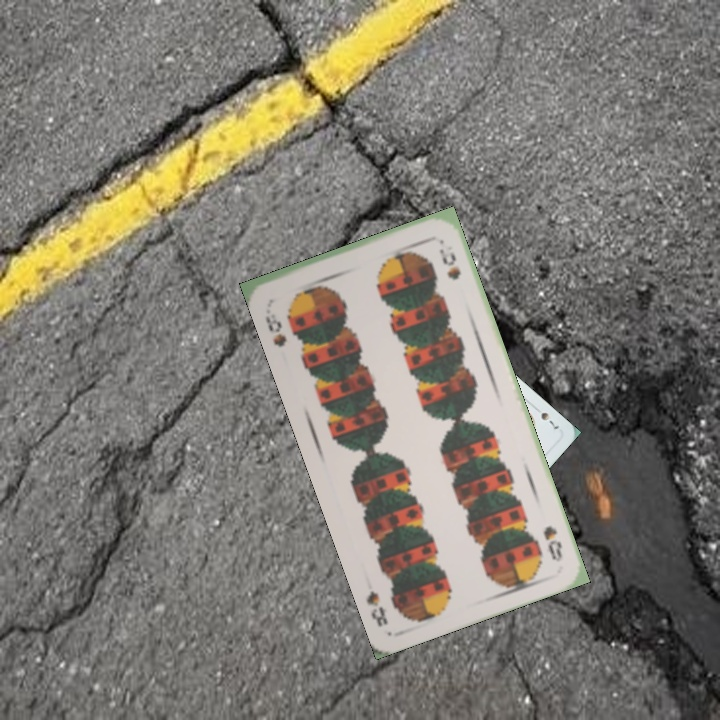S7: (529, 401, 562, 432)
S8: (261, 309, 290, 350), (539, 522, 565, 565)
